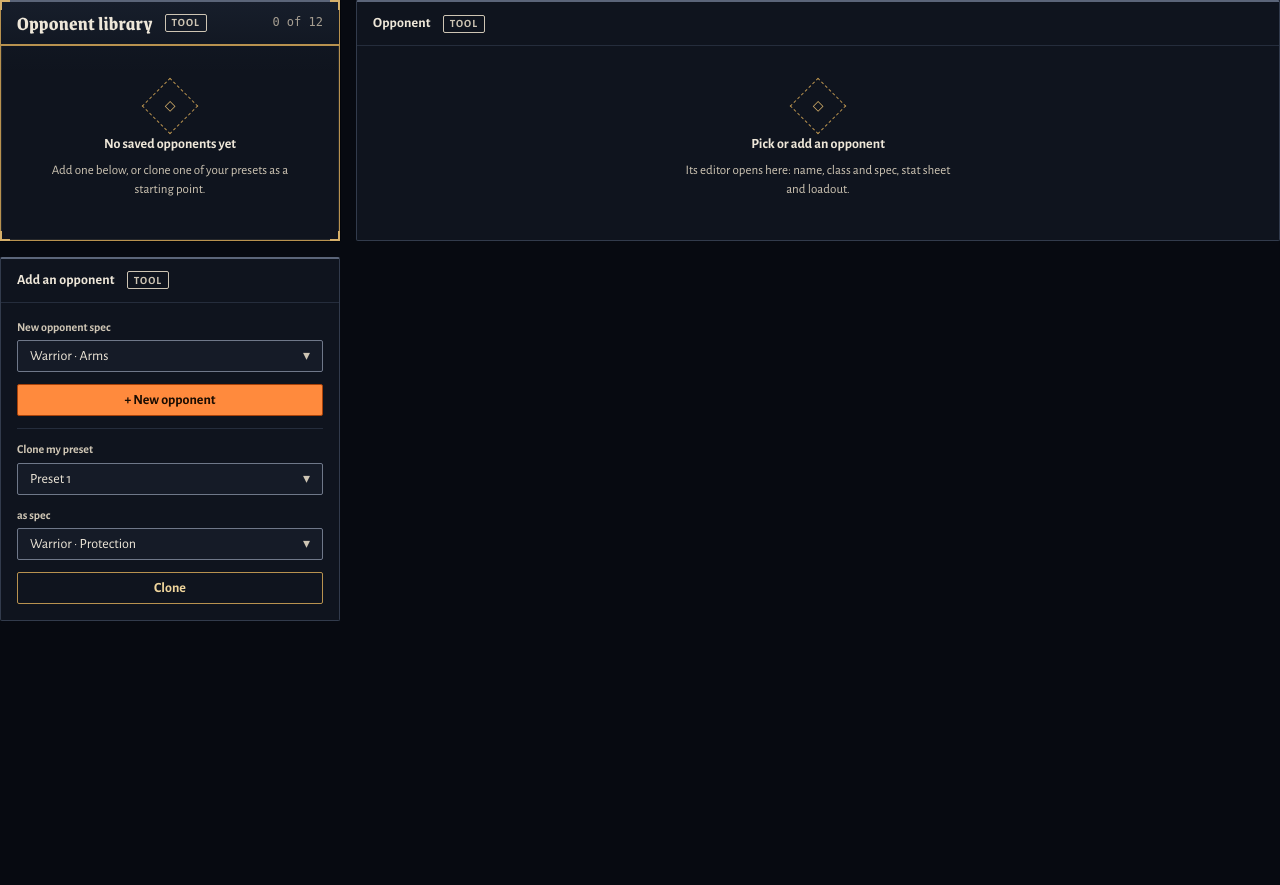
Test: a new opponent opens its editor with the Needs line and a blank-row list
This screenshot has width=1280, height=885.
Click the button "+ New opponent": [170, 400] box [17,384,323,416]
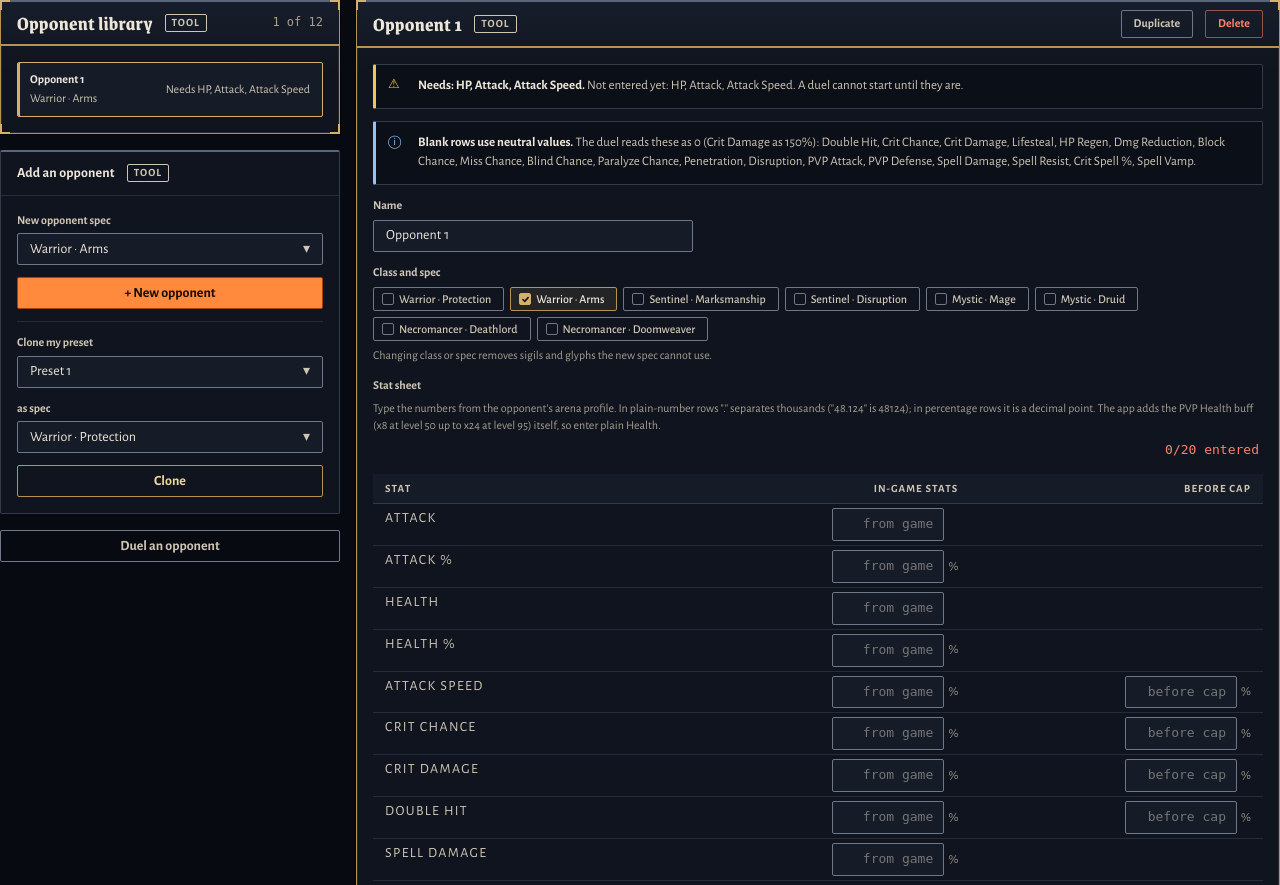
Expected: the text with test id "opponent-needs" shows "HP, Attack, Attack Speed", [587,79,963,92]
Expected: the text with test id "opponent-defaulted" shows "Crit Chance", [418,136,1225,168]
Expected: the element with test id "opponent-picker" shows "Needs HP, Attack, Attack Speed", [17,62,323,117]
